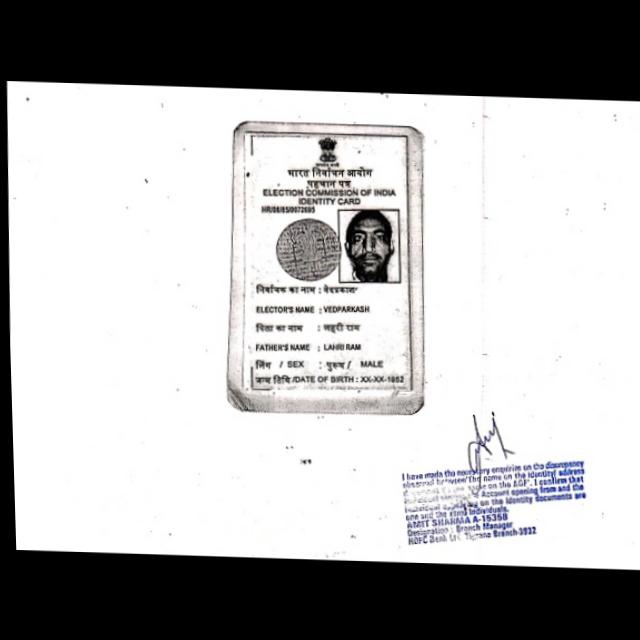voter_id: (227, 124, 419, 404)
